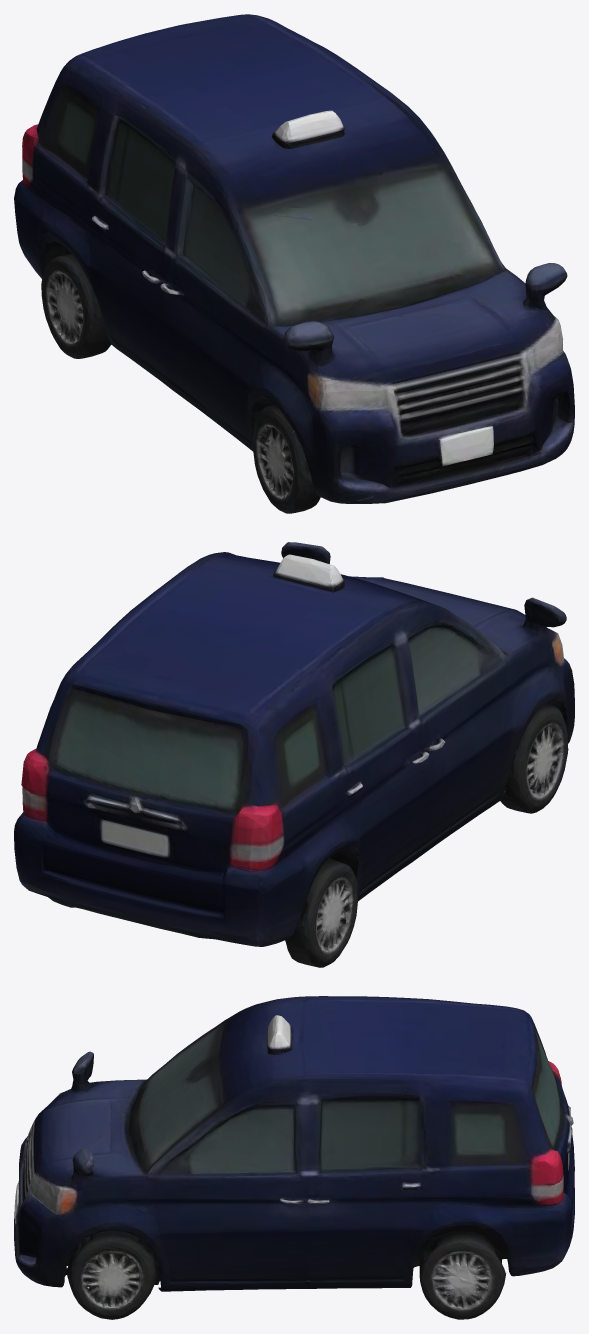
Rendered from car_taxi.glb.
The picture shows the model from 3 angles, top to bottom: view 1: azimuth 30°, elevation 25°; view 2: azimuth 150°, elevation 25°; view 3: azimuth 270°, elevation 25°; orthographic projection. The views are drawn at different scales.
Visible parts, largest first — view 1: geometry_0; view 2: geometry_0; view 3: geometry_0.
Part boxes in pixels (x1,y1,x2,y2): geometry_0: (14, 14, 574, 513); geometry_0: (14, 542, 574, 967); geometry_0: (14, 996, 574, 1319).
Size of the model in its own units: 0.4817 by 0.4788 by 0.9954.
Materials: 1 (1 with a texture image).
